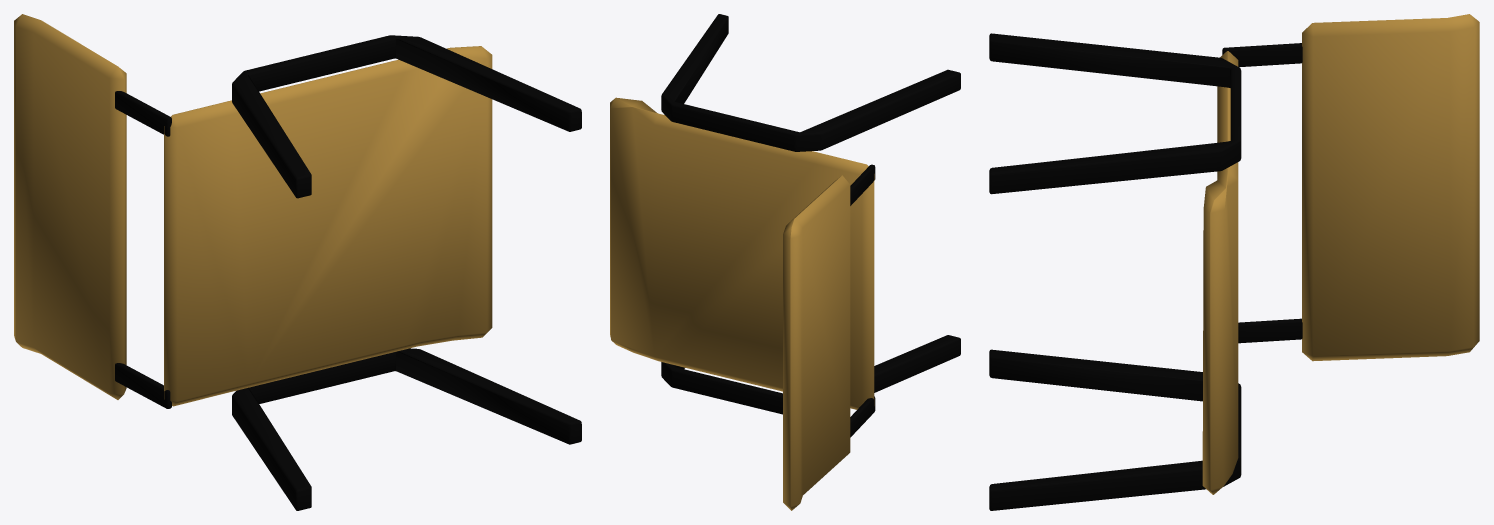
3 views of the same model, side by side, from view 1: azimuth 30°, elevation 25°; view 2: azimuth 150°, elevation 25°; view 3: azimuth 270°, elevation 25° (orthographic). The views are drawn at different scales.
Visible parts, largest first — view 1: Cube; view 2: Cube; view 3: Cube.
Boxes of the visible parts, bbox=[...] form: Cube: bbox=[14, 14, 581, 510]; Cube: bbox=[610, 14, 960, 510]; Cube: bbox=[989, 14, 1479, 510].
Size of the model in its own units: 58.13 by 53 by 69.59.
